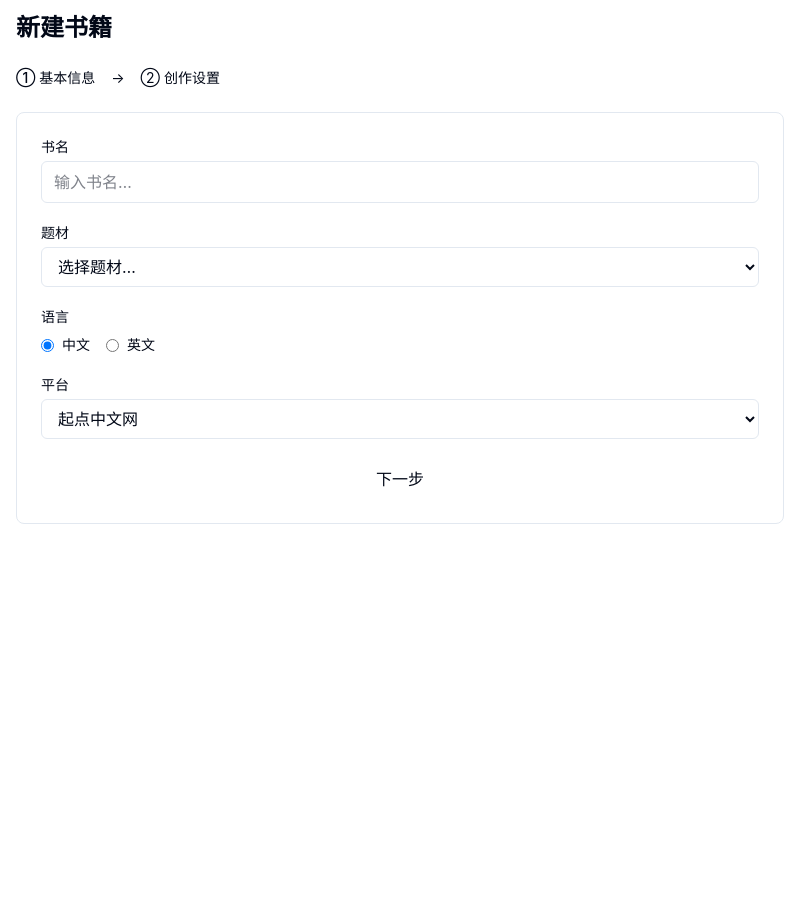
Test: BookCreate Page › shows error message on failure
The image size is (801, 912).
Type "重复书名" into the field with placeholder "输入书名…" at (400, 182), box [41, 161, 759, 203]
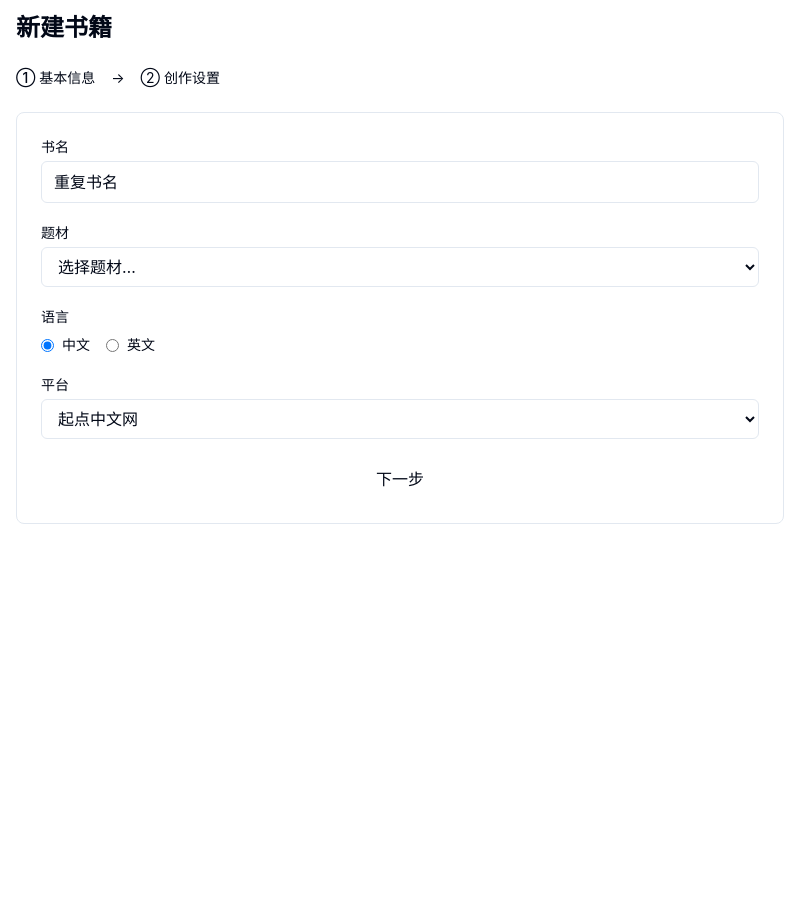
Select "历史" in the dropdown labelled "题材" at (400, 267), box [41, 247, 759, 287]
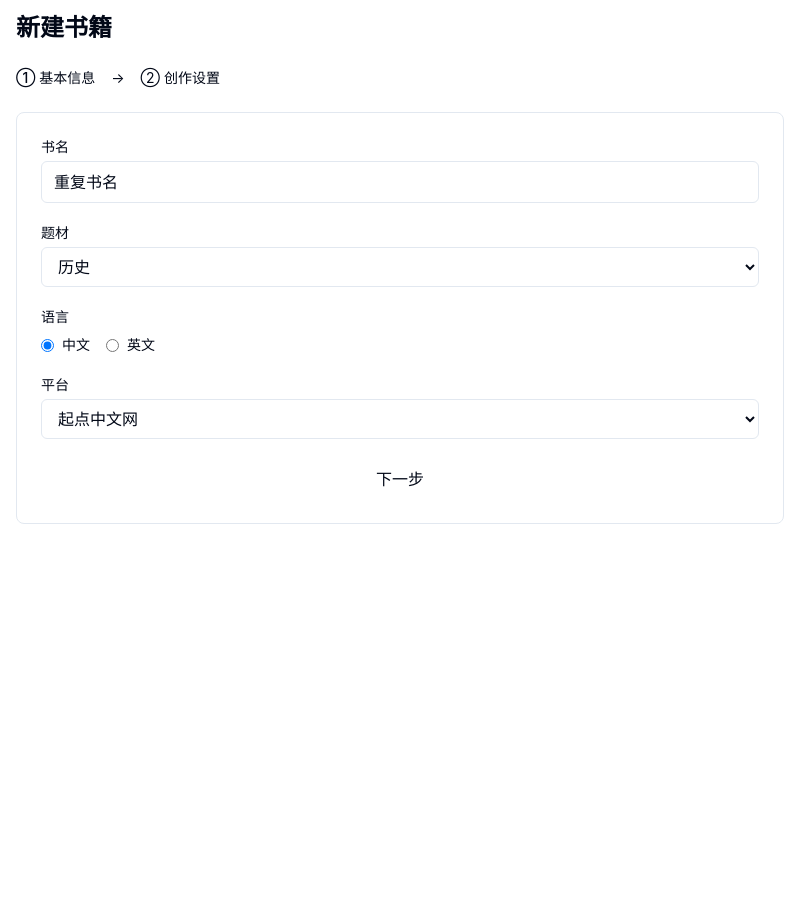
Click the button "下一步" at (400, 479), box [41, 459, 759, 499]
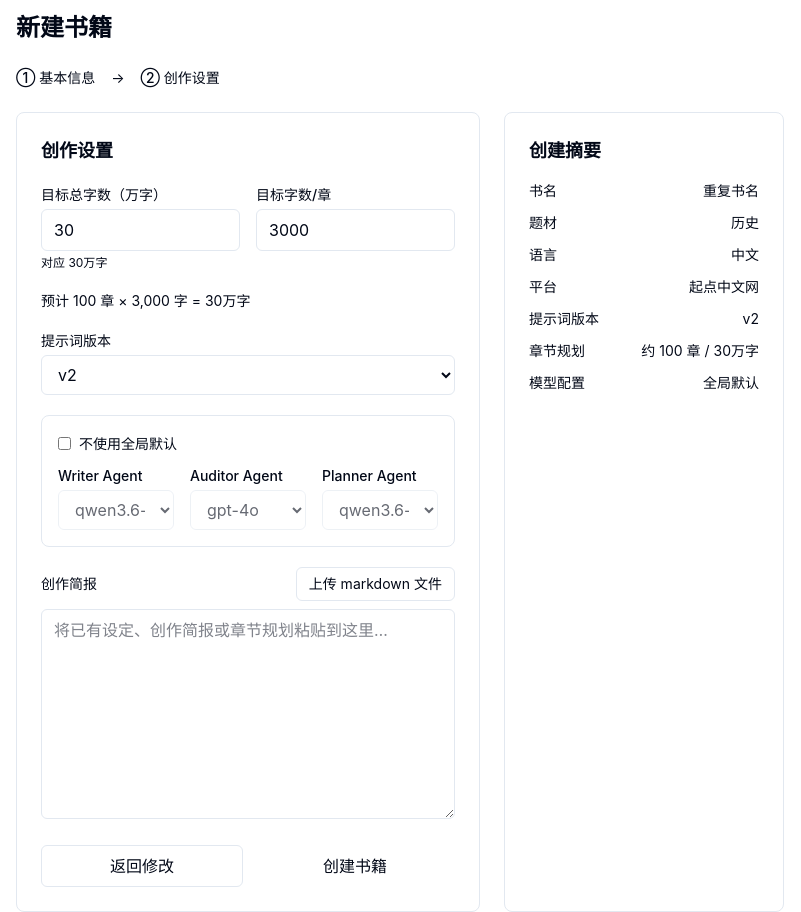
Submit the text "创建书籍"
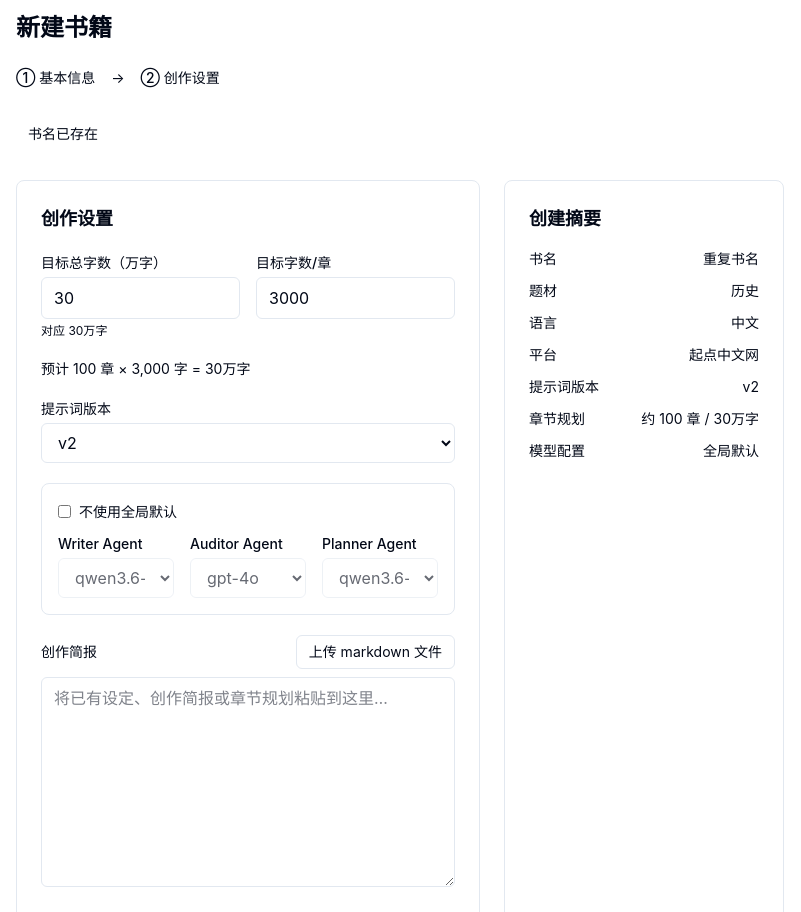
Now the text "书名已存在" is shown, box [28, 125, 98, 142]
